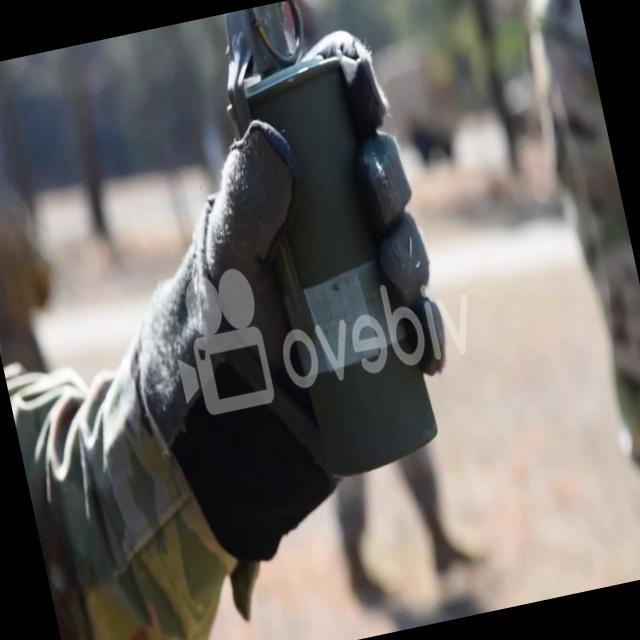grenade: (211, 0, 449, 481)
